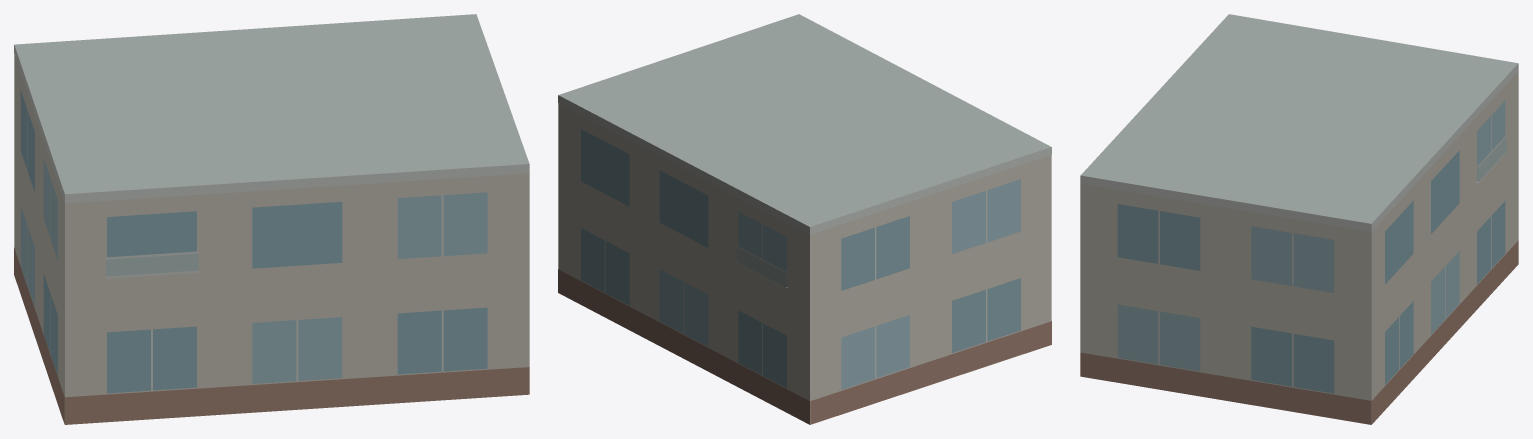
Rendered from survey-upis-32656745.glb.
3 views of the same model, side by side, from view 1: azimuth 30°, elevation 25°; view 2: azimuth 150°, elevation 25°; view 3: azimuth 270°, elevation 25° (orthographic). The views are drawn at different scales.
Parts seen in each view (by area): view 1: survey-upis-32656745.tmp; view 2: survey-upis-32656745.tmp; view 3: survey-upis-32656745.tmp.
Part boxes in pixels (x1,y1,x2,y2): survey-upis-32656745.tmp: (14,14,529,424); survey-upis-32656745.tmp: (558,14,1051,424); survey-upis-32656745.tmp: (1080,14,1518,424).
Size of the model in its own units: 13.67 by 6.1 by 12.06.
